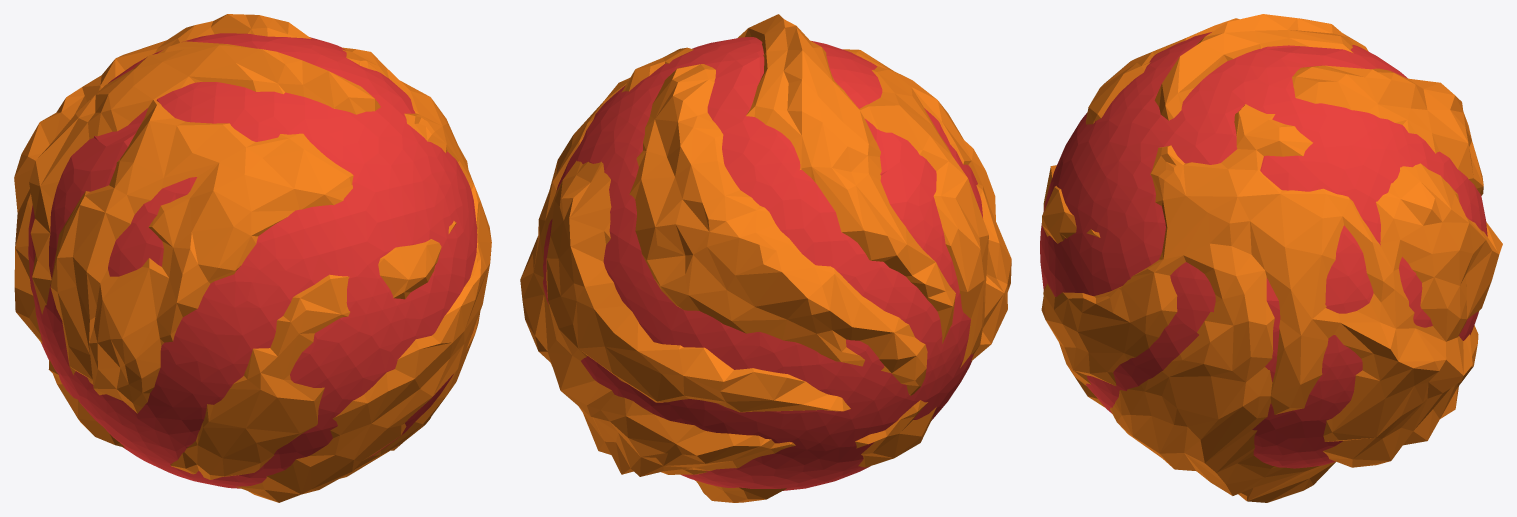
File: Planet_17.glb
3 renders of one model, left to right at view 1: azimuth 30°, elevation 25°; view 2: azimuth 150°, elevation 25°; view 3: azimuth 270°, elevation 25°, orthographic. The views are drawn at different scales.
Visible parts, largest first — view 1: Planet_17; view 2: Planet_17; view 3: Planet_17.
Part boxes in pixels (bbox=[...]): Planet_17: bbox=[14, 14, 491, 502]; Planet_17: bbox=[520, 14, 1011, 502]; Planet_17: bbox=[1040, 14, 1502, 502].
Bounding box in the file's own units: 20.17 × 21.35 × 20.02.
1 material, 1 textured.
